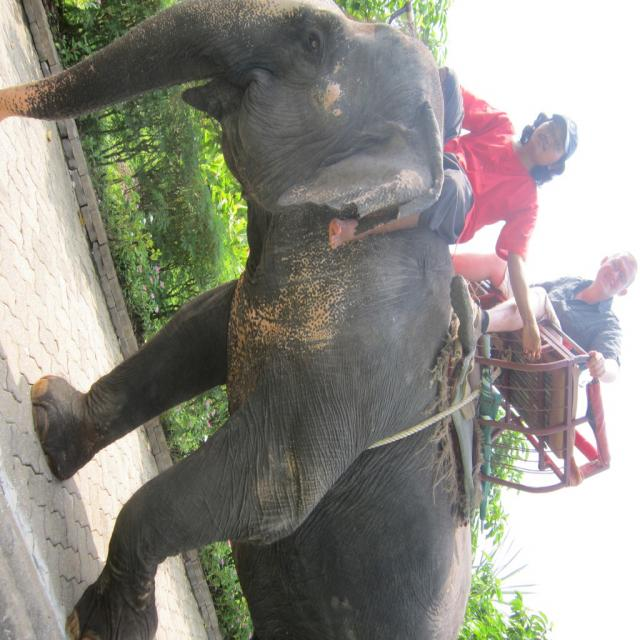elephant: (1, 0, 468, 639)
